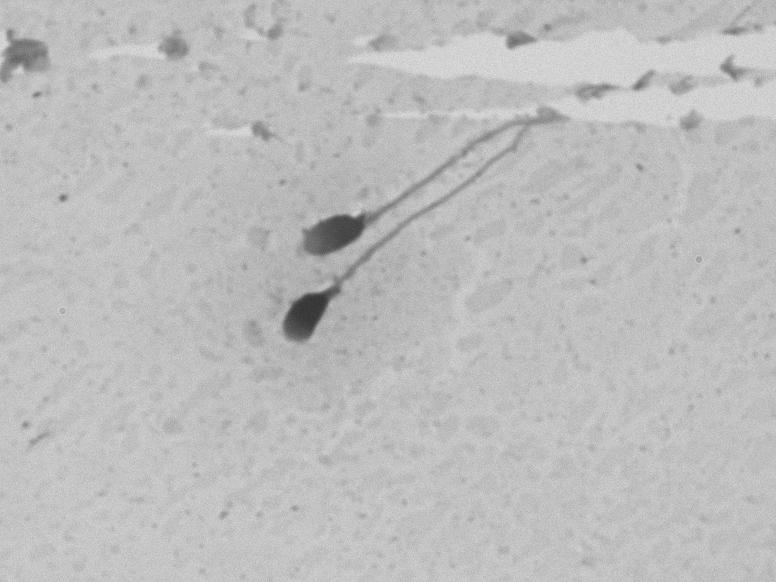Abnormal: (263, 69, 569, 374)
